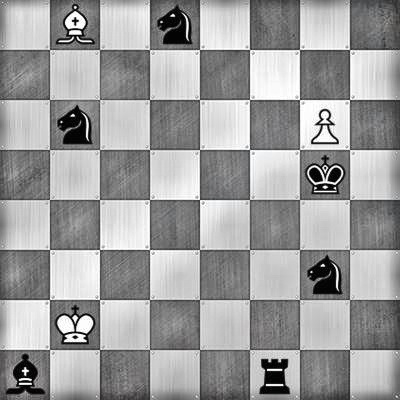black-bishop: (0, 350, 50, 400)
black-king: (300, 150, 350, 200)
black-knight: (150, 0, 200, 50), (50, 100, 100, 150), (300, 250, 350, 300)
black-rook: (250, 350, 300, 400)
white-bishop: (50, 0, 100, 50)
white-king: (50, 300, 100, 350)
white-pawn: (300, 100, 350, 150)
